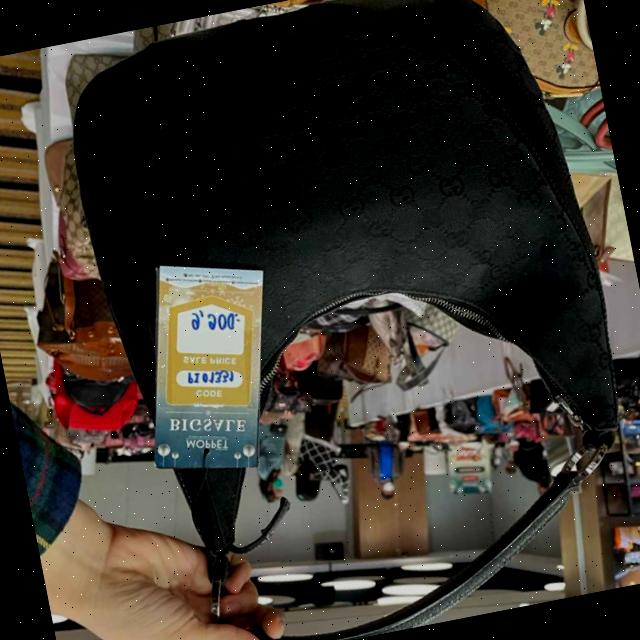Handbag: (7, 0, 634, 536)
